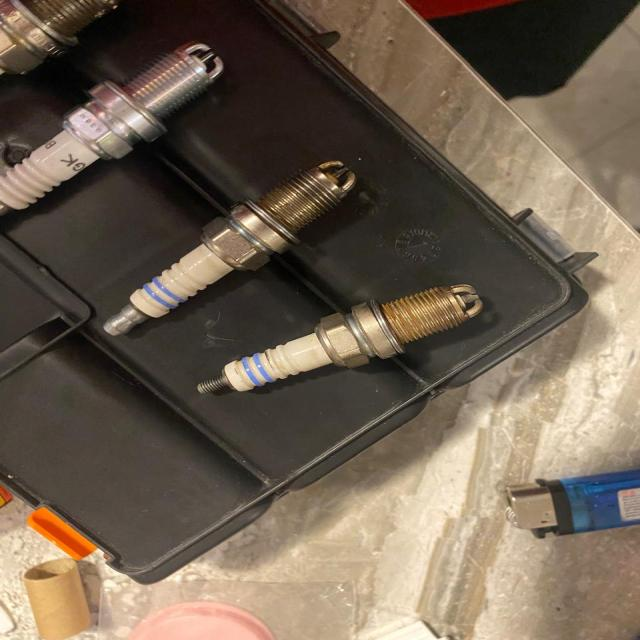spark-plug: (95, 154, 364, 341), (192, 272, 499, 404)
